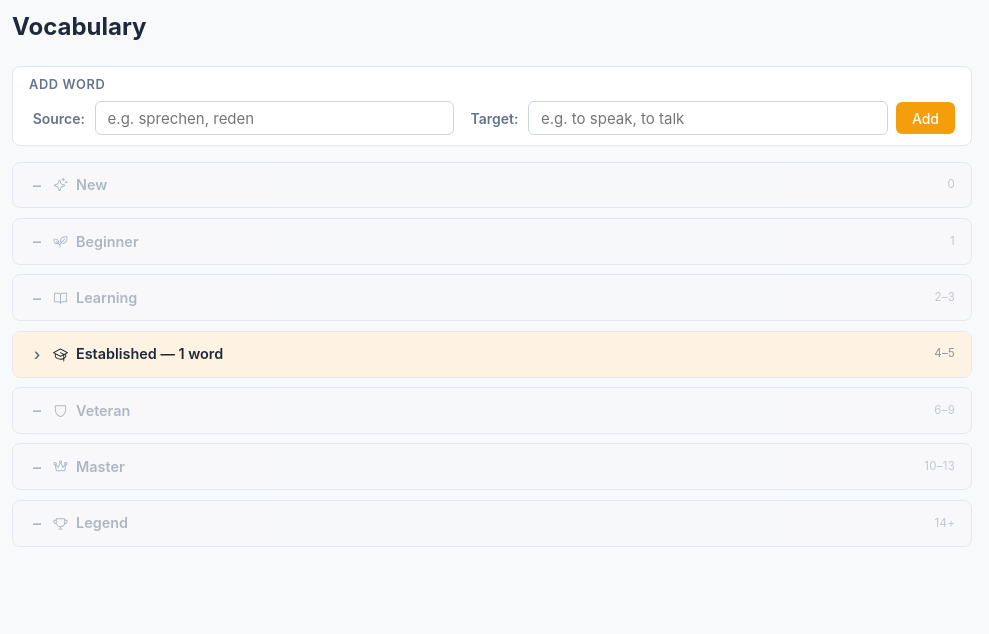
Test: VocabListScreen › shows remaining time for a time-based word not yet due
Click the heading "Established — 1 word 4–5".
click(116, 354)  # box top-left (13, 332), bottom-right (971, 376)
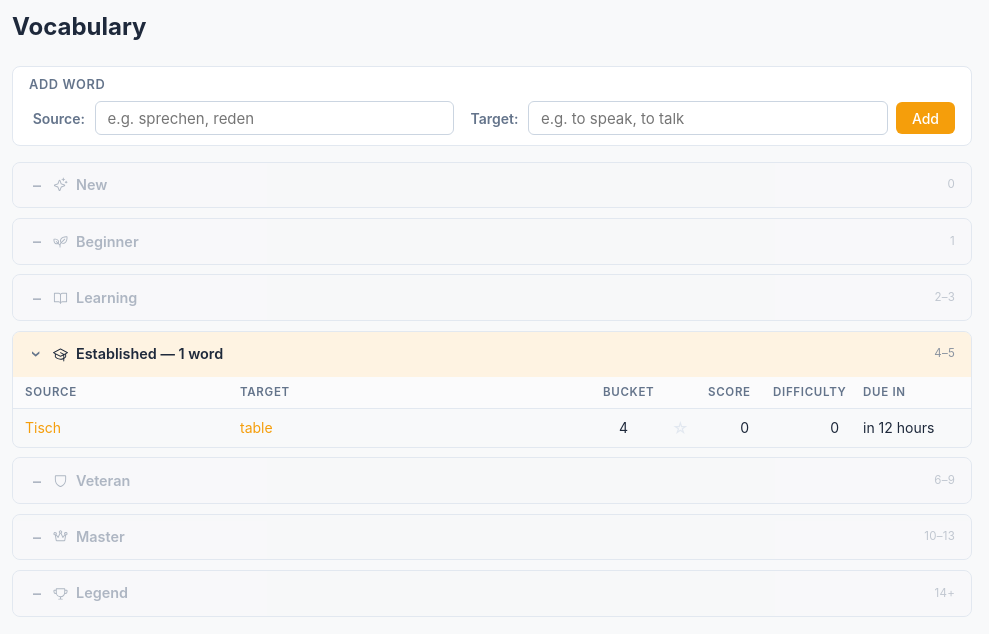
Check: the text "in 12 hours" is shown, box top-left (851, 409), bottom-right (971, 446)
